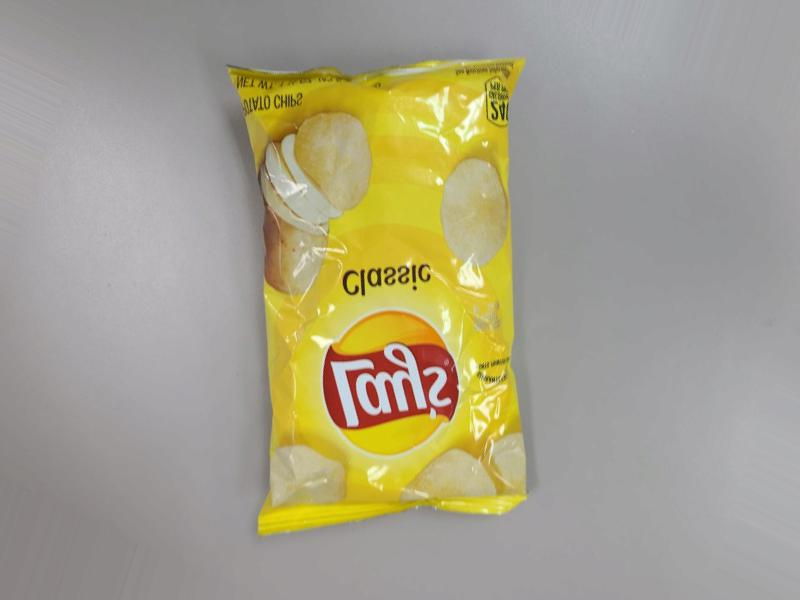lays: (211, 109, 535, 585)
